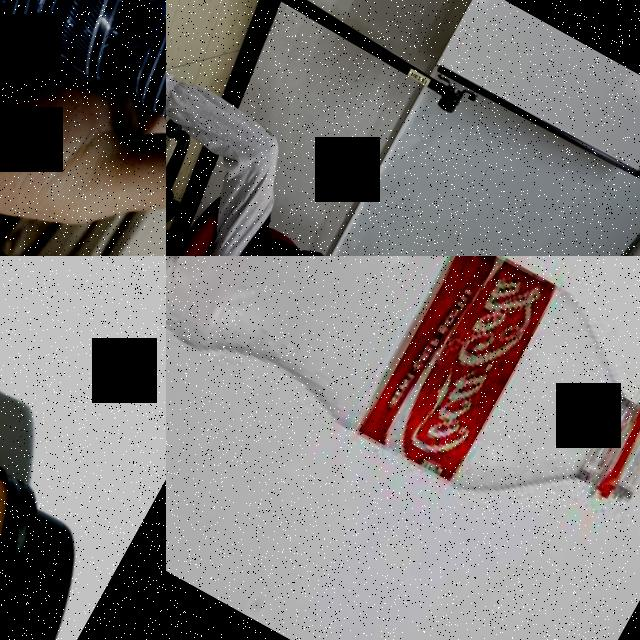bottle: (166, 256, 640, 569), (0, 0, 166, 256)
cup: (0, 262, 120, 640)
